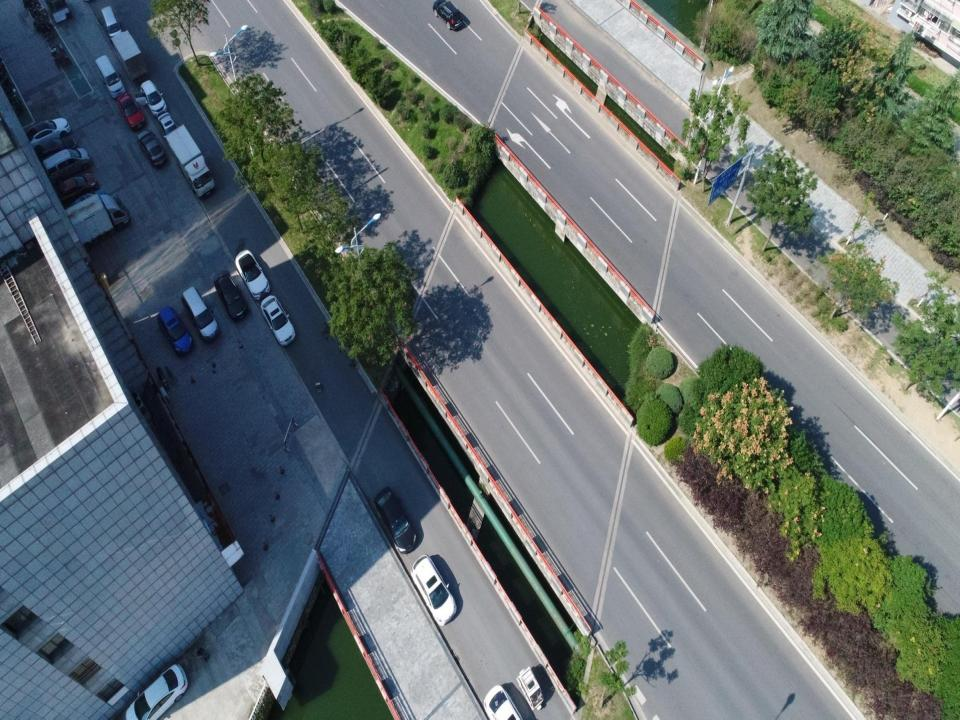car: (410, 554, 458, 626), (374, 486, 417, 555), (235, 249, 271, 300), (261, 294, 296, 346), (213, 269, 248, 321), (157, 306, 194, 355), (62, 188, 109, 222), (24, 118, 71, 150), (484, 685, 524, 719), (135, 80, 168, 117), (59, 173, 98, 203), (137, 130, 167, 167), (118, 92, 146, 130), (36, 134, 76, 160), (432, 0, 463, 31), (158, 111, 179, 141)
truck: (164, 123, 216, 200), (59, 194, 130, 250), (111, 28, 149, 83), (101, 6, 121, 40)
van: (180, 286, 220, 343), (42, 148, 92, 181), (94, 53, 126, 99)
